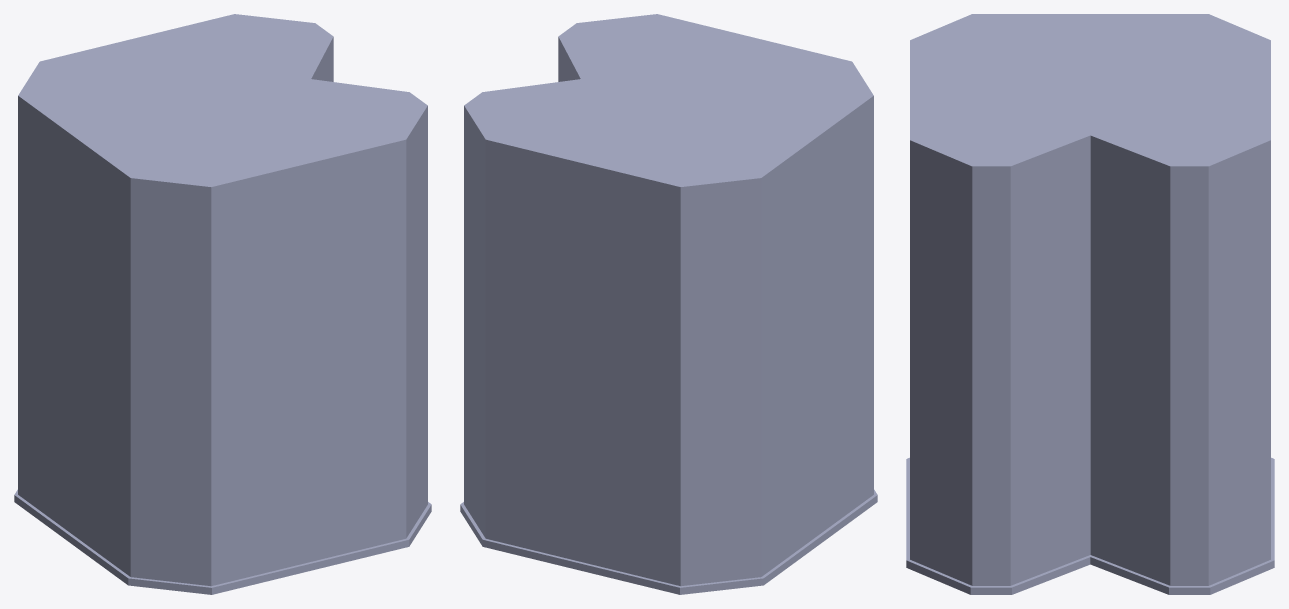
Rendered from nubot_frame_collision.dae.
3 renders of one model, left to right at view 1: azimuth 30°, elevation 25°; view 2: azimuth 150°, elevation 25°; view 3: azimuth 270°, elevation 25°, orthographic. The views are drawn at different scales.
Visible parts, largest first — view 1: SketchUp (×2); view 2: SketchUp (×2); view 3: SketchUp (×2).
Part boxes in pixels (x1,y1,x2,y2): SketchUp (×2): (14, 14, 431, 594); SketchUp (×2): (460, 14, 877, 594); SketchUp (×2): (906, 14, 1274, 594).
Bounding box in the file's own units: 17.54 × 17.54 × 22.44.
